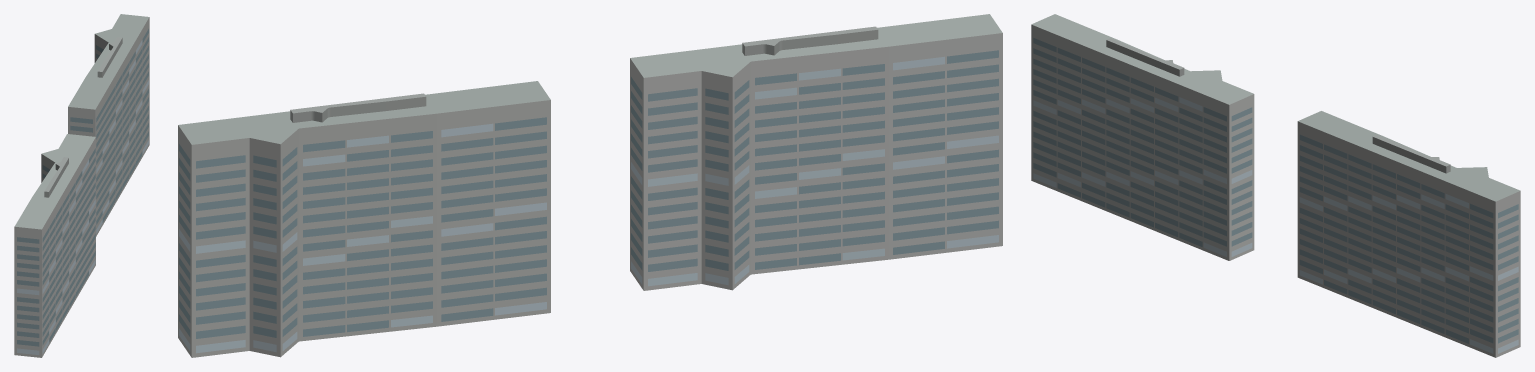
Rendered from apt-a13986509.glb.
3 renders of one model, left to right at view 1: azimuth 30°, elevation 25°; view 2: azimuth 150°, elevation 25°; view 3: azimuth 270°, elevation 25°, orthographic. The views are drawn at different scales.
Visible parts, largest first — view 1: apt-a13986509; view 2: apt-a13986509; view 3: apt-a13986509.
Boxes of the visible parts, left/top/right/bottom form: apt-a13986509: left=14, top=14, right=149, bottom=357; apt-a13986509: left=178, top=14, right=1002, bottom=357; apt-a13986509: left=1031, top=14, right=1520, bottom=357.
Bounding box in the file's own units: 118 × 47.81 × 130.
